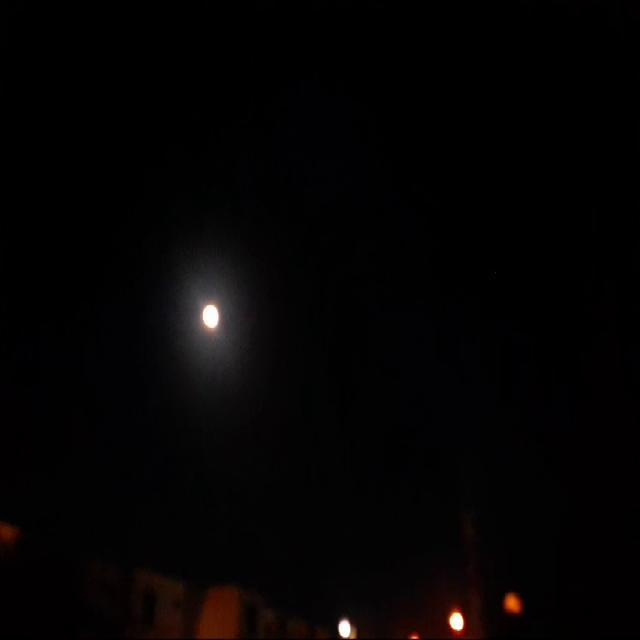moon: (195, 299, 217, 338)
